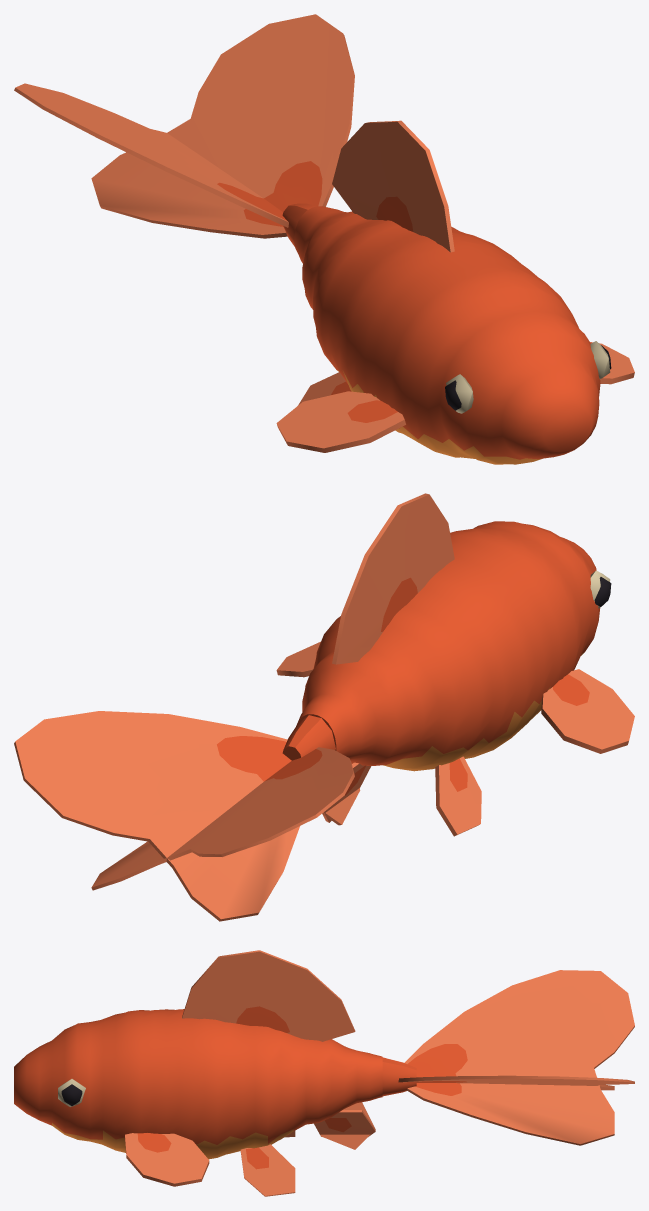
File: kingyo_aka.glb
3 renders of one model, top to bottom at view 1: azimuth 30°, elevation 25°; view 2: azimuth 150°, elevation 25°; view 3: azimuth 270°, elevation 25°, orthographic. The views are drawn at different scales.
Parts seen in each view (by area): view 1: body, tail; view 2: body, tail; view 3: body, tail.
Boxes of the visible parts, bbox=[...] form: body: bbox=[276, 120, 634, 464]; tail: bbox=[14, 14, 354, 246]; body: bbox=[276, 493, 634, 836]; tail: bbox=[14, 711, 354, 921]; body: bbox=[14, 950, 382, 1196]; tail: bbox=[382, 970, 634, 1145].
Bounding box in the file's own units: 0.0423 × 0.0351 × 0.091.
